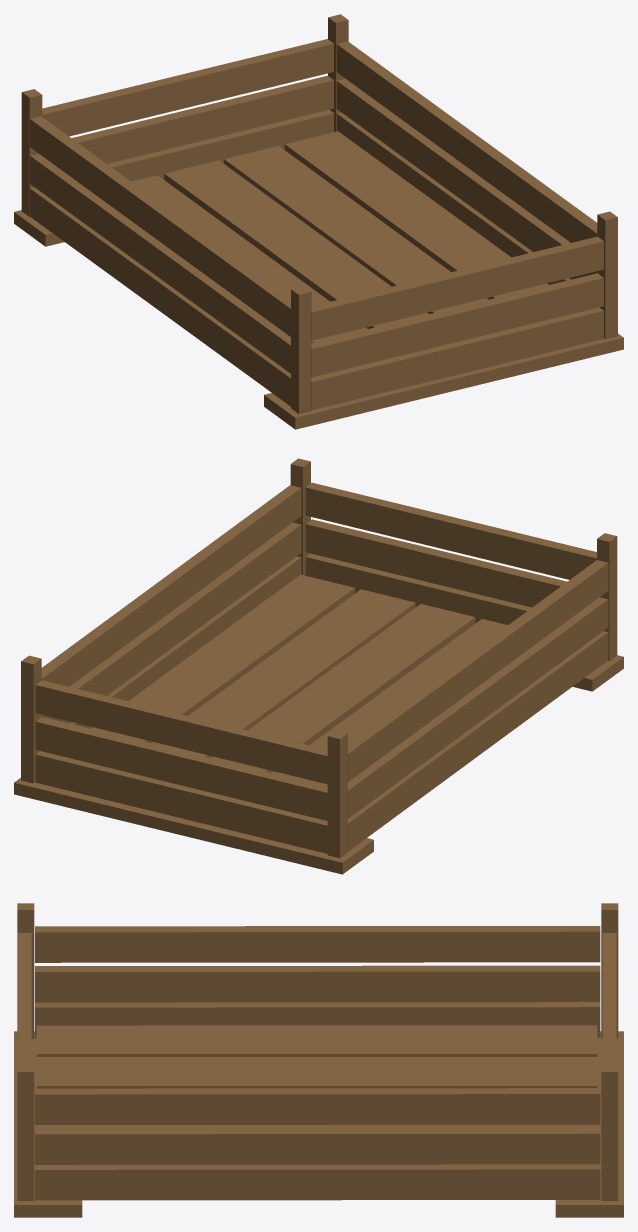
The model's file is cajette.fbx.
The picture shows the model from 3 angles, top to bottom: view 1: azimuth 30°, elevation 25°; view 2: azimuth 150°, elevation 25°; view 3: azimuth 270°, elevation 25°; orthographic projection. The views are drawn at different scales.
Parts seen in each view (by area): view 1: cajette; view 2: cajette; view 3: cajette.
Part boxes in pixels (box(x1,y1,x2,y2)): cajette: box(14, 14, 623, 429); cajette: box(14, 458, 623, 874); cajette: box(14, 903, 623, 1217).
Size of the model in its own units: 0.5228 by 0.2012 by 0.7757.
